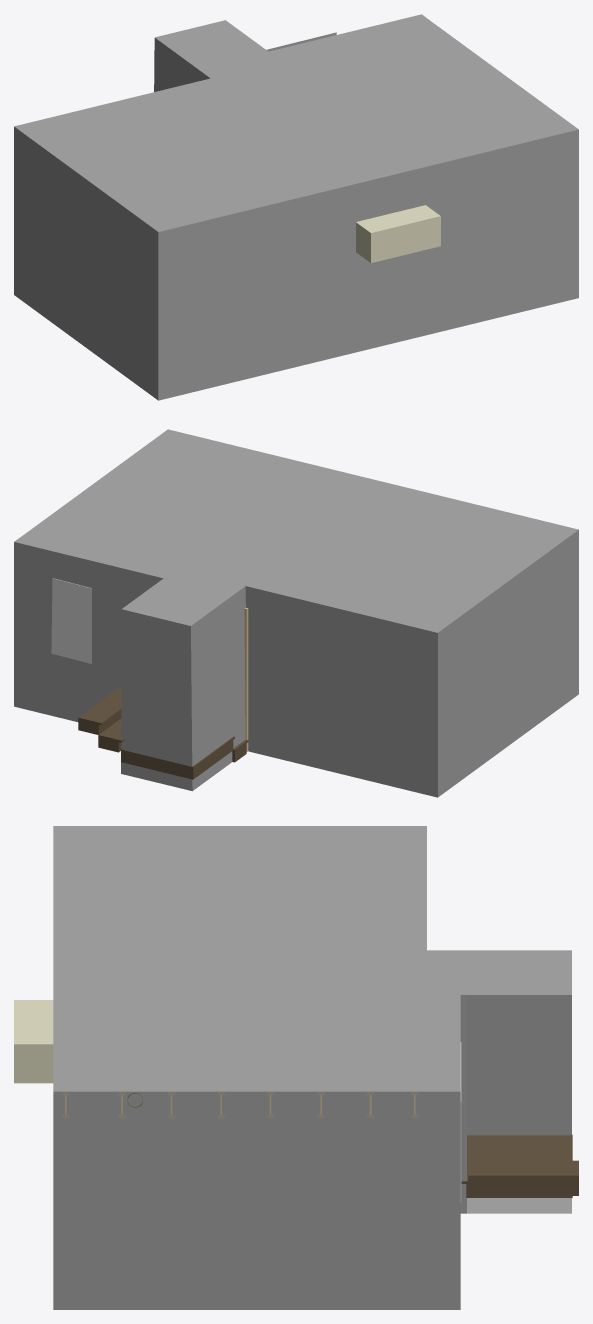
Rendered from basement draft 08.fbx.
3 views of the same model, one above another, from view 1: azimuth 30°, elevation 25°; view 2: azimuth 150°, elevation 25°; view 3: azimuth 270°, elevation 25° (orthographic). The views are drawn at different scales.
Visible parts, largest first — view 1: Floor___Walls_x3_geo1, pCube64; view 2: Floor___Walls_x3_geo1, bulletin_board_geo, Stair_2_geo, stair_4_geo, door_frame_geo, stair_3_geo; view 3: Floor___Walls_x3_geo1, stair_4_geo, pCube64, Stair_2_geo.
Part boxes in pixels (x1=…): Floor___Walls_x3_geo1: x1=14, y1=14, x2=578, y2=400; pCube64: x1=356, y1=205, x2=440, y2=262; Floor___Walls_x3_geo1: x1=14, y1=429, x2=578, y2=797; bulletin_board_geo: x1=51, y1=578, x2=91, y2=663; Stair_2_geo: x1=121, y1=736, x2=234, y2=779; stair_4_geo: x1=78, y1=687, x2=121, y2=734; door_frame_geo: x1=244, y1=608, x2=248, y2=751; stair_3_geo: x1=98, y1=719, x2=124, y2=752; Floor___Walls_x3_geo1: x1=53, y1=826, x2=571, y2=1309; stair_4_geo: x1=468, y1=1160, x2=578, y2=1192; pCube64: x1=14, y1=1000, x2=53, y2=1083; Stair_2_geo: x1=461, y1=1134, x2=572, y2=1197.
Bounding box in the file's own units: 205 × 79 × 184.
